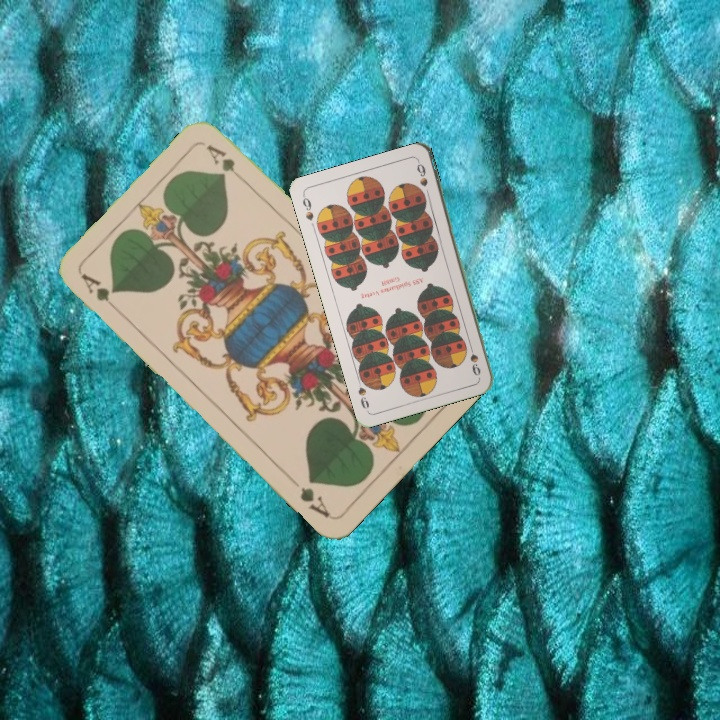GA: (77, 269, 124, 317)
S9: (464, 339, 483, 378), (298, 191, 316, 223)
